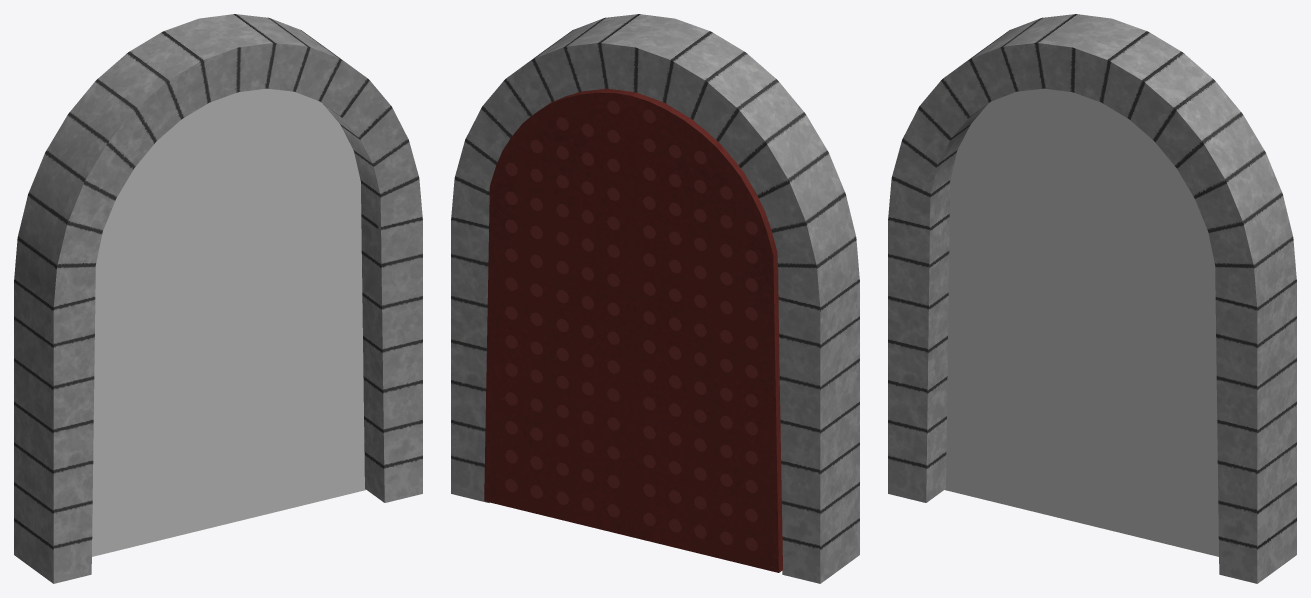
File: Portal_Adjusted_new.fbx
The picture shows the model from 3 angles, left to right: view 1: azimuth 30°, elevation 25°; view 2: azimuth 150°, elevation 25°; view 3: azimuth 330°, elevation 25°; orthographic projection.
Parts seen in each view (by area): view 1: PortalGraphxPlane, DoorFrame; view 2: DoorFrame, DoorRight, DoorLeft; view 3: PortalGraphxPlane, DoorFrame.
Part boxes in pixels (bbox=[...]): PortalGraphxPlane: bbox=[92, 88, 366, 556]; DoorFrame: bbox=[14, 14, 422, 583]; DoorFrame: bbox=[451, 14, 859, 583]; DoorRight: bbox=[631, 92, 782, 572]; DoorLeft: bbox=[484, 88, 635, 536]; PortalGraphxPlane: bbox=[944, 88, 1218, 556]; DoorFrame: bbox=[888, 14, 1296, 583].
Bounding box in the file's own units: 48.54 × 61.93 × 9.94.
